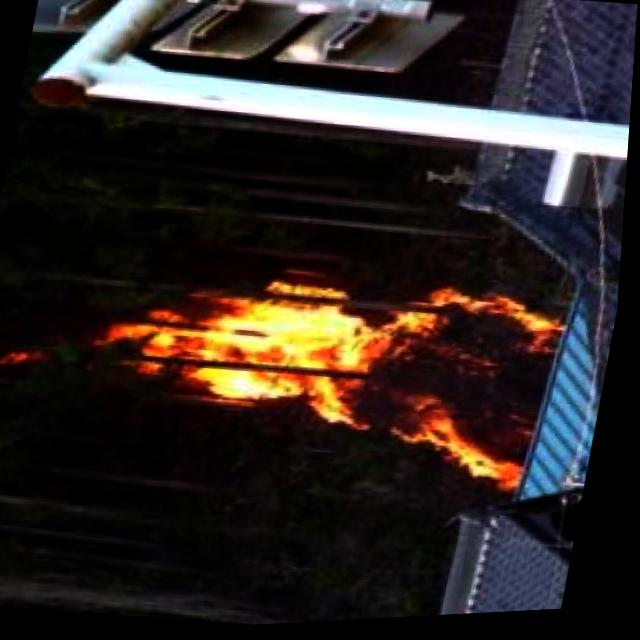Fire: (89, 245, 568, 515)
